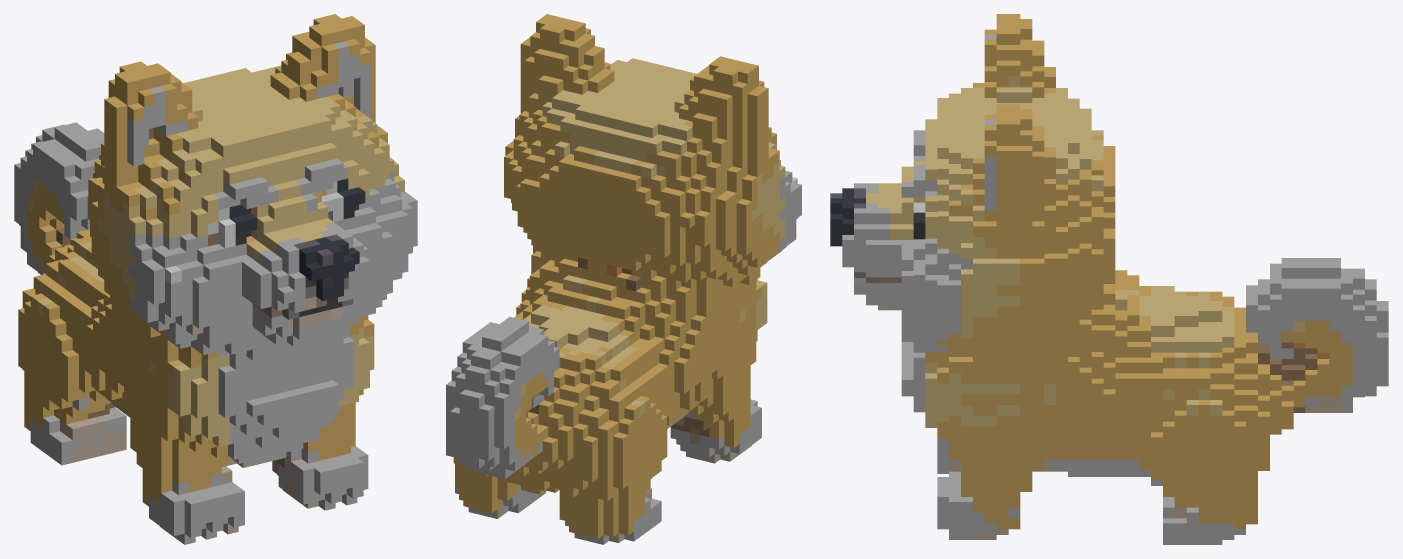
The model's file is doge_voxel.glb.
3 views of the same model, side by side, from view 1: azimuth 30°, elevation 25°; view 2: azimuth 150°, elevation 25°; view 3: azimuth 270°, elevation 25° (orthographic). The views are drawn at different scales.
Visible parts, largest first — view 1: world; view 2: world; view 3: world.
Boxes of the visible parts, x1,y1,x2,y2 form: world: (14,14,417,544); world: (446,14,801,544); world: (830,14,1388,544).
Bounding box in the file's own units: 25 × 40 × 47.
